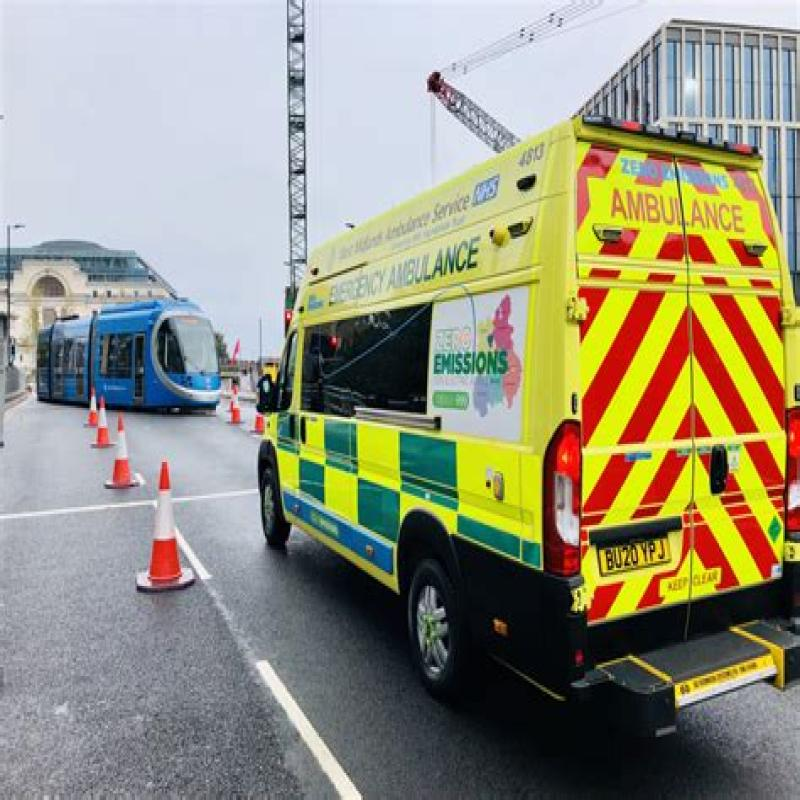AmbulanceSiren: (552, 99, 765, 172)
